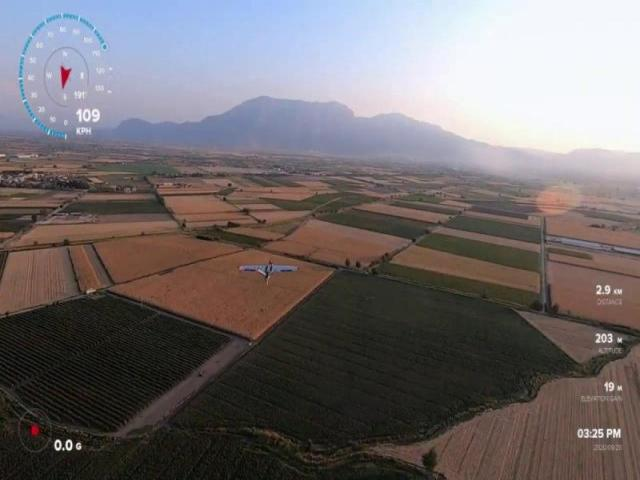hedef: (233, 255, 300, 286)
